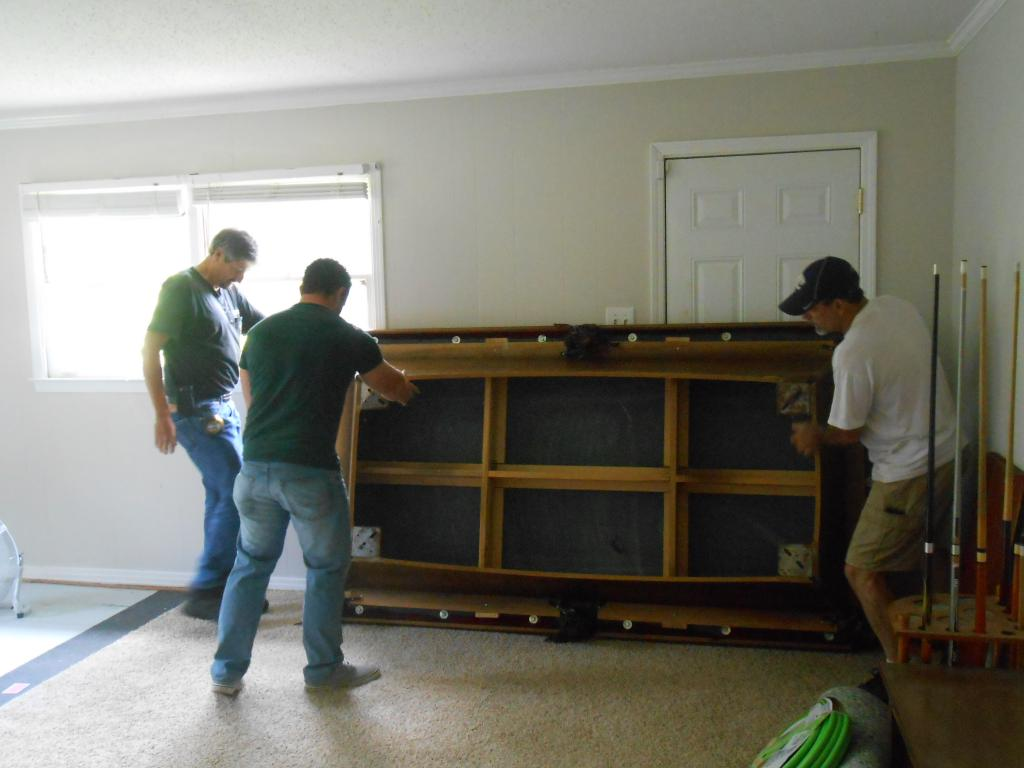Footwear: (303, 657, 381, 689), (186, 584, 225, 620), (865, 664, 890, 700), (209, 678, 245, 698)
